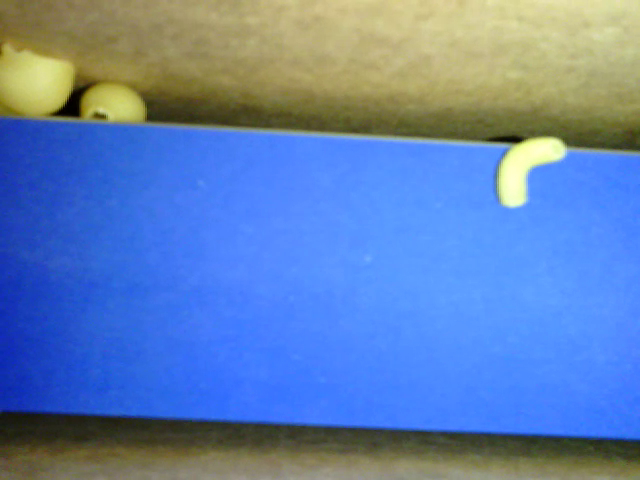elbow: (497, 137, 567, 210)
shell: (1, 43, 74, 116), (82, 83, 147, 123)
